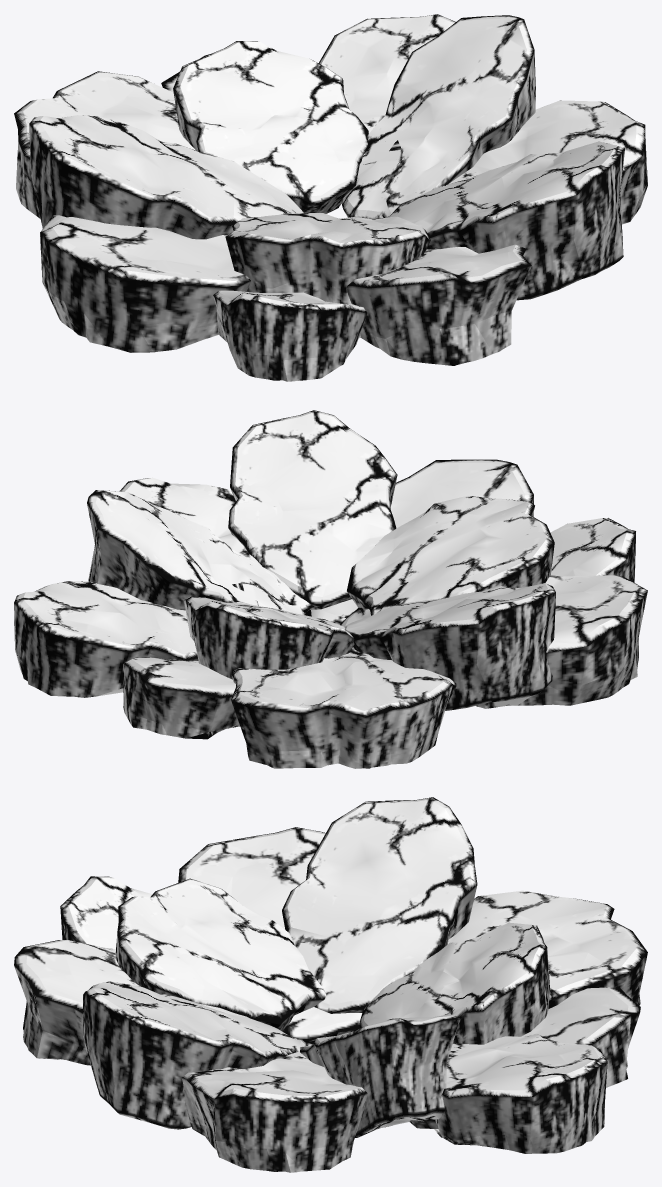
File: GroundStone2.fbx
3 views of the same model, one above another, from view 1: azimuth 30°, elevation 25°; view 2: azimuth 150°, elevation 25°; view 3: azimuth 270°, elevation 25° (orthographic). The views are drawn at different scales.
Visible parts, largest first — view 1: SM_e_cmn_Stone005_Rubble; view 2: SM_e_cmn_Stone005_Rubble; view 3: SM_e_cmn_Stone005_Rubble.
Boxes of the visible parts, x1=… form: SM_e_cmn_Stone005_Rubble: x1=14, y1=14, x2=647, y2=381; SM_e_cmn_Stone005_Rubble: x1=14, y1=410, x2=647, y2=768; SM_e_cmn_Stone005_Rubble: x1=14, y1=797, x2=647, y2=1172.
Size of the model in its own units: 101 by 23.54 by 100.
1 material, 1 textured.
